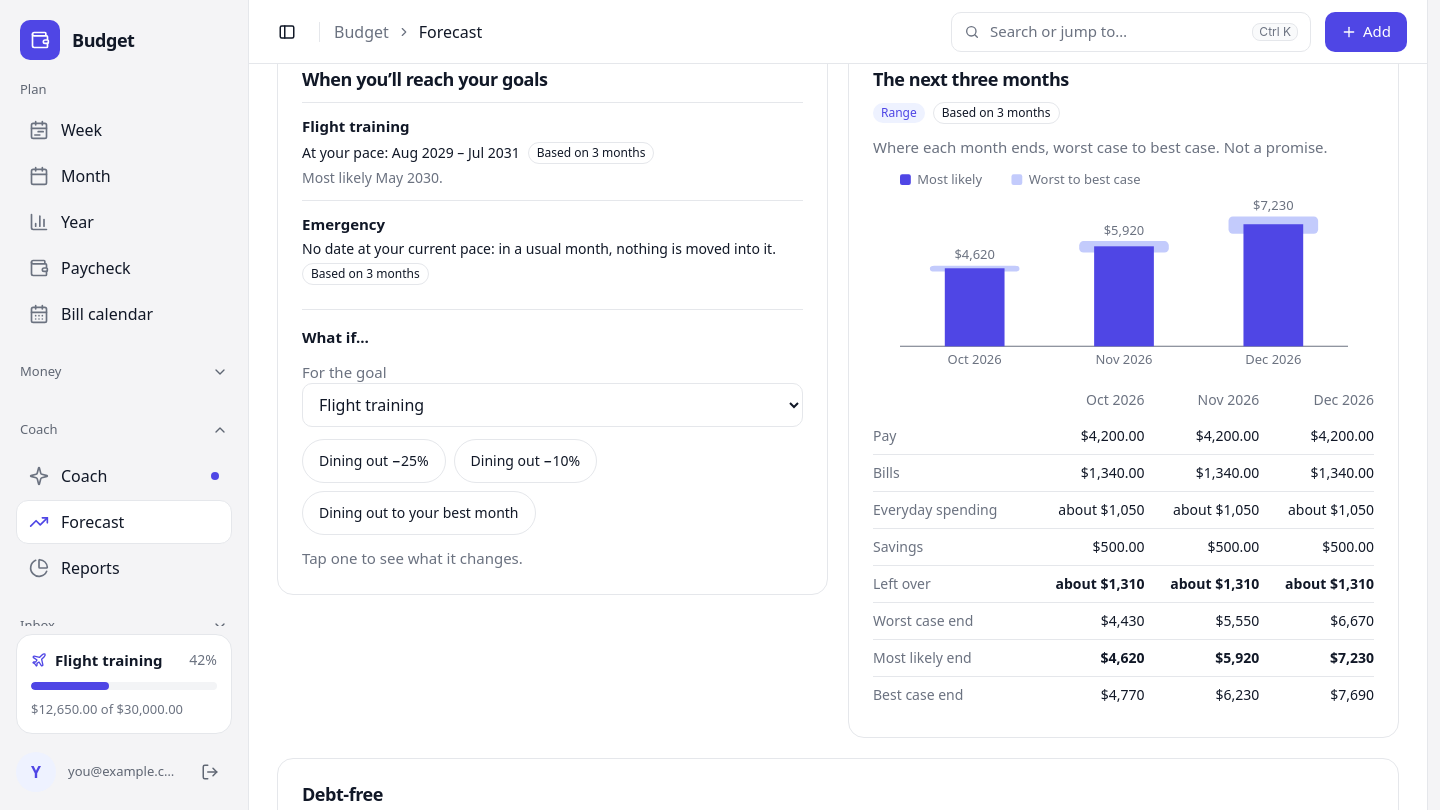
what if, on the Forecast (plan §2.5, A14, F35) › says a trim is too little to give a date, when it alone would take past year 9999
(page scrolled)
expect the element named "What if you trimmed" is shown: met, box [302, 439, 597, 535]
Select "Emergency" in the dropdown labelled "For the goal" at (552,405), box [302, 383, 803, 427]
(page scrolled)
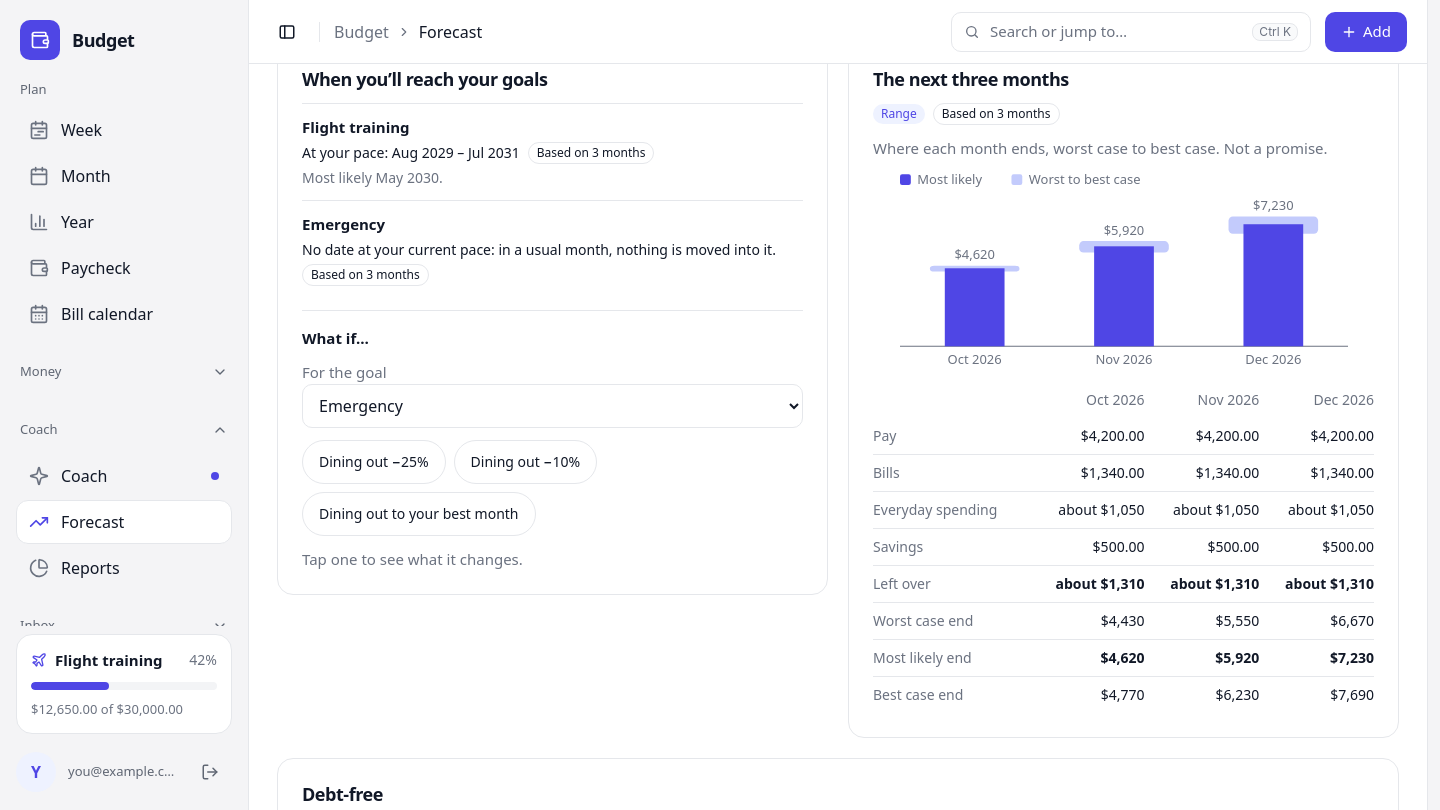
Click the button "Dining out −25%".
click(374, 462)  # box [302, 440, 446, 484]
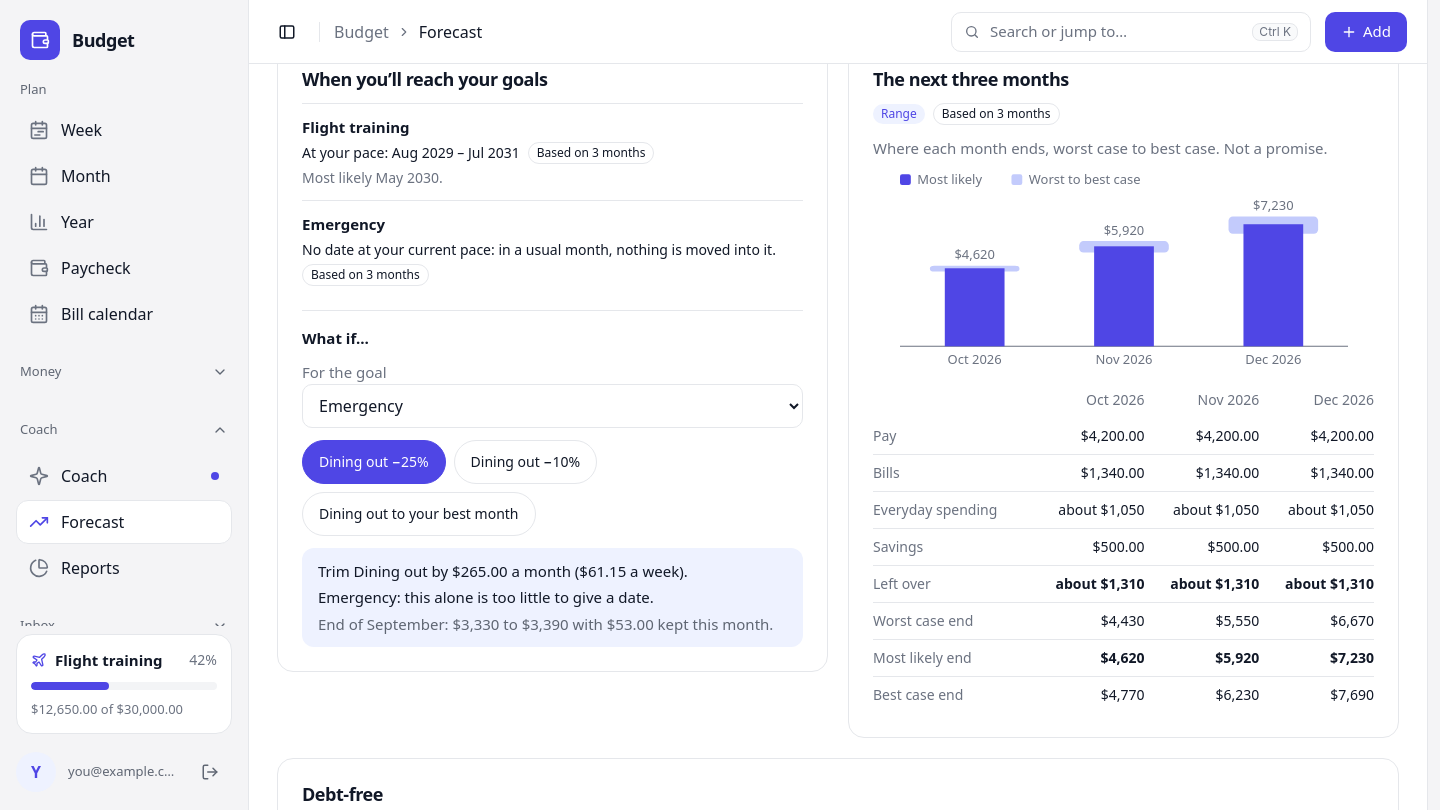
expect the element showing "Trim Dining out by $265.00 a month ($61.15 a week)." is shown: met, box [318, 561, 688, 581]
expect the element showing "Emergency: this alone is too little to give a date." is shown: met, box [318, 587, 654, 607]
